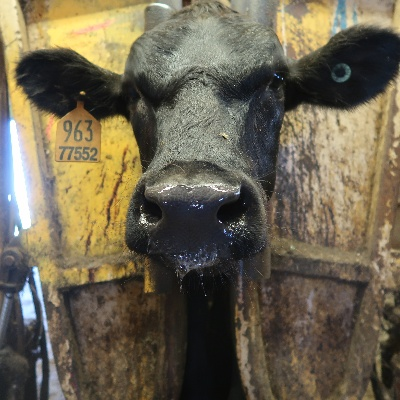fidget_spinner: (136, 177, 249, 264)
